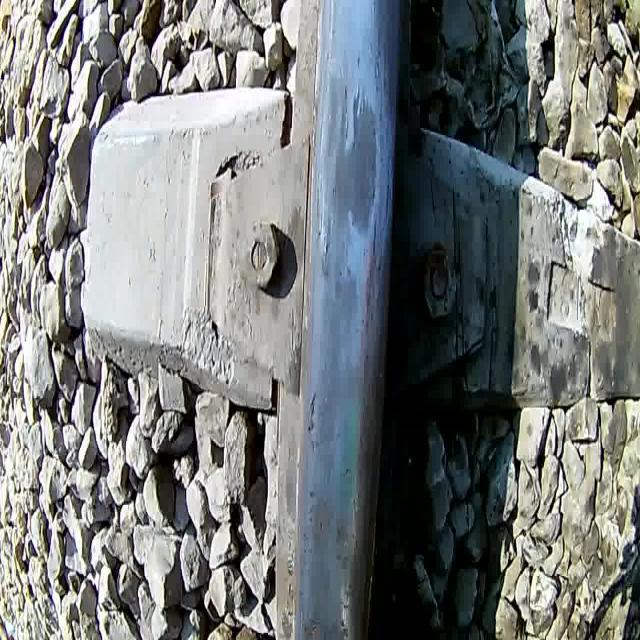Cracks: (304, 379, 321, 465), (320, 202, 334, 274), (370, 172, 380, 269), (384, 172, 392, 242)
Squats: (329, 80, 385, 238), (305, 482, 339, 560), (296, 594, 343, 640)
